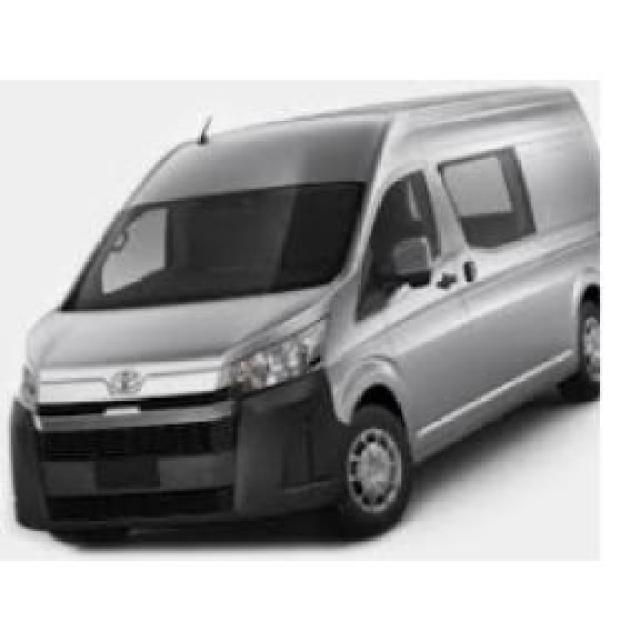Van: (11, 79, 598, 541)
